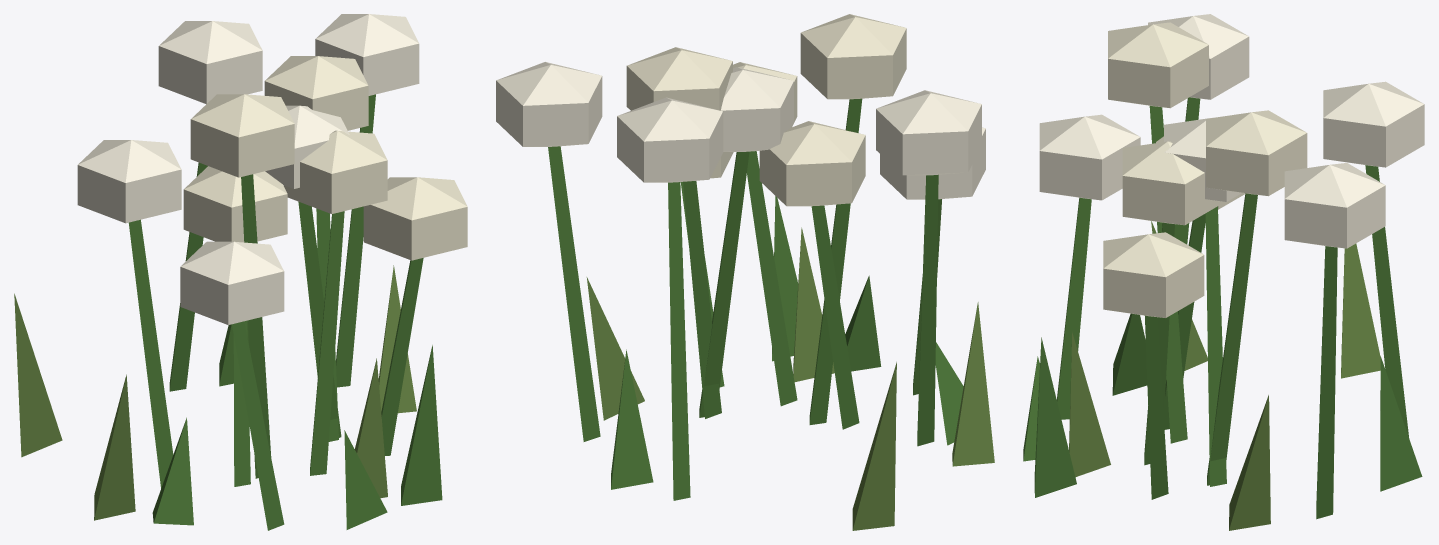
The model's file is cover_flower_white.glb.
3 views of the same model, side by side, from view 1: azimuth 30°, elevation 25°; view 2: azimuth 150°, elevation 25°; view 3: azimuth 270°, elevation 25° (orthographic). The views are drawn at different scales.
Visible parts, largest first — view 1: cover_flower_white; view 2: cover_flower_white; view 3: cover_flower_white.
Boxes of the visible parts, x1,y1,x2,y2 form: cover_flower_white: [14, 14, 467, 530]; cover_flower_white: [496, 14, 994, 530]; cover_flower_white: [1023, 14, 1424, 530].
Bounding box in the file's own units: 0.5826 × 0.5559 × 0.4971.
